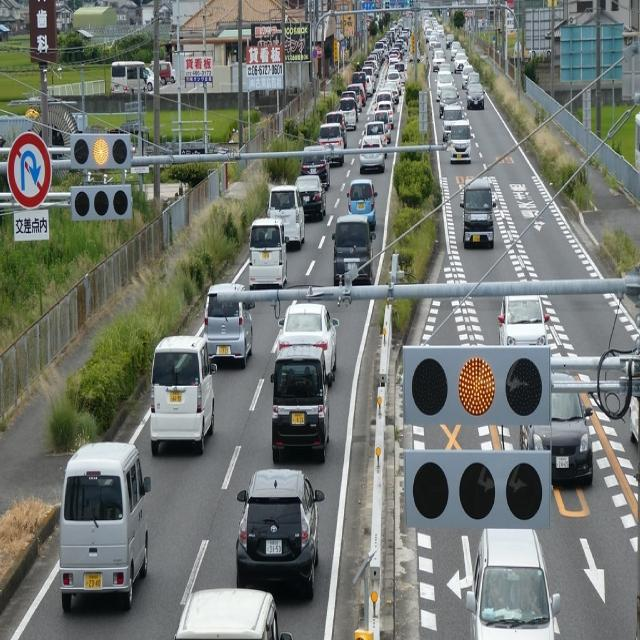Carro Branco: (152, 334, 217, 458), (175, 582, 282, 640), (281, 294, 340, 384), (247, 216, 293, 300), (498, 290, 549, 360), (268, 180, 304, 252)
Carro Prata: (60, 443, 148, 606), (468, 528, 566, 640), (203, 281, 255, 370)
Carro Preto: (238, 465, 324, 604), (511, 376, 595, 492), (272, 339, 337, 461), (331, 212, 372, 291), (462, 178, 496, 254), (292, 175, 329, 223), (304, 144, 330, 194)
